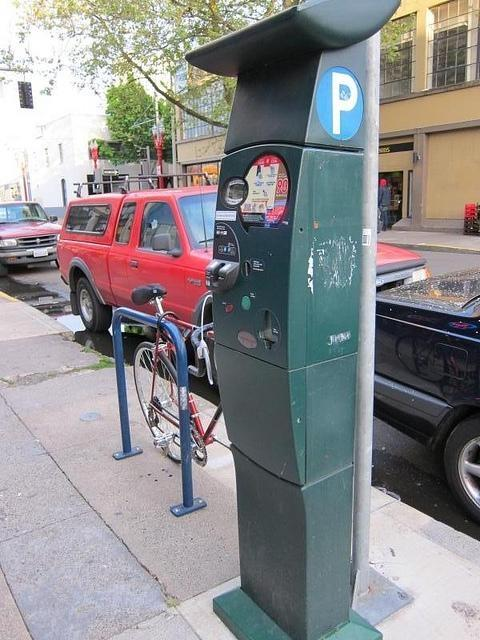bicycle: (130, 284, 222, 465)
car: (54, 182, 432, 390), (373, 262, 480, 522), (0, 202, 62, 261)
truck: (55, 182, 432, 332)
